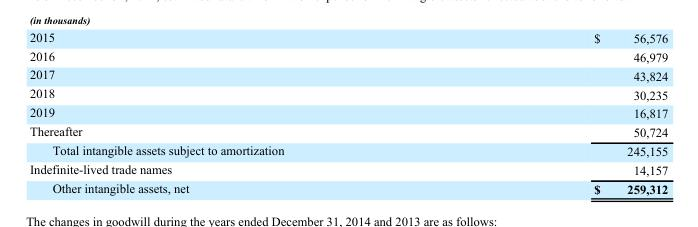table: (28, 29, 667, 195)
table column: (28, 29, 438, 195), (438, 29, 667, 195)
table row: (28, 46, 667, 65), (28, 65, 667, 84), (28, 84, 667, 103), (28, 103, 667, 122), (28, 122, 667, 141), (28, 159, 667, 178), (28, 141, 667, 159), (28, 29, 667, 46), (28, 178, 667, 195)
